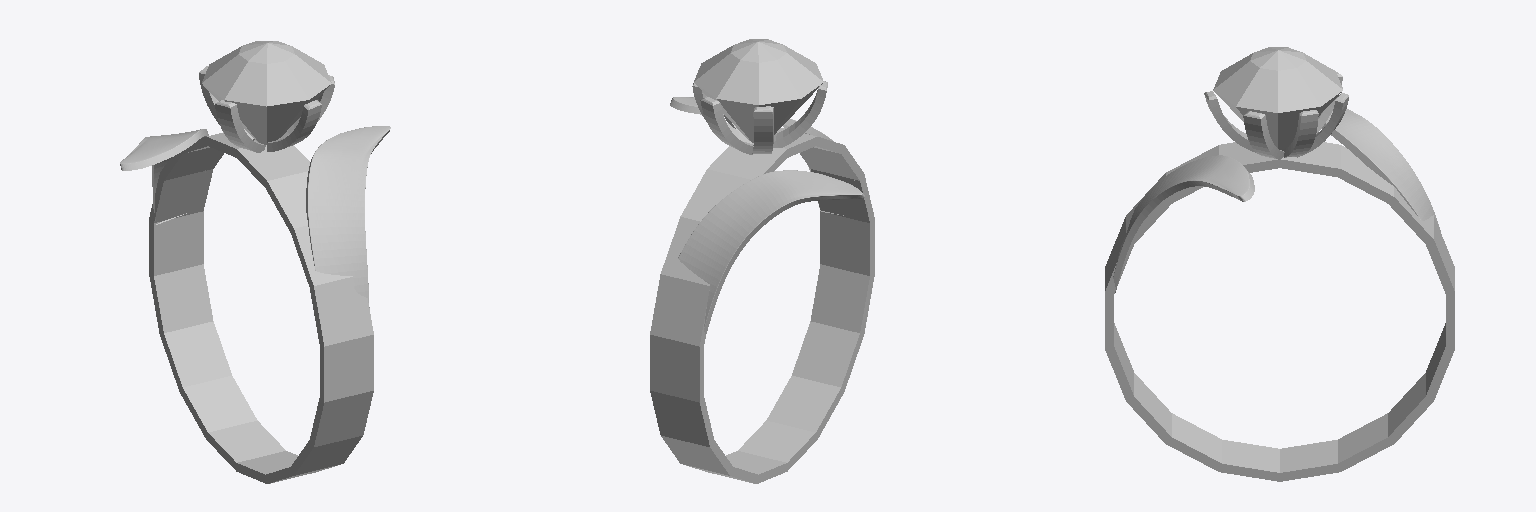
The model's file is ring3.obj.
3 views of the same model, side by side, from view 1: azimuth 30°, elevation 25°; view 2: azimuth 150°, elevation 25°; view 3: azimuth 270°, elevation 25° (orthographic).
Parts seen in each view (by area): view 1: Tube001, 002, Cone001, object 2, Box012, Box010; view 2: Tube001, object 2, Cone001, Box014, Box012, Box013, 002; view 3: Tube001, Cone001, 002, object 2, Box009, Box008, Box010, Box014.
Boxes of the visible parts, x1=… form: Tube001: x1=149, y1=132, x2=373, y2=483; 002: x1=306, y1=126, x2=390, y2=307; Cone001: x1=202, y1=41, x2=331, y2=144; object 2: x1=120, y1=129, x2=208, y2=224; Box012: x1=215, y1=100, x2=265, y2=152; Box010: x1=267, y1=100, x2=321, y2=151; Tube001: x1=650, y1=128, x2=874, y2=483; object 2: x1=678, y1=170, x2=864, y2=334; Cone001: x1=694, y1=39, x2=823, y2=142; Box014: x1=700, y1=97, x2=753, y2=154; Box012: x1=773, y1=81, x2=827, y2=147; Box013: x1=752, y1=106, x2=773, y2=153; 002: x1=670, y1=97, x2=854, y2=215; Tube001: x1=1105, y1=142, x2=1454, y2=481; Cone001: x1=1213, y1=47, x2=1342, y2=149; 002: x1=1113, y1=155, x2=1254, y2=292; object 2: x1=1322, y1=109, x2=1440, y2=231; Box009: x1=1243, y1=111, x2=1284, y2=159; Box008: x1=1282, y1=110, x2=1318, y2=157; Box010: x1=1204, y1=91, x2=1255, y2=152; Box014: x1=1295, y1=92, x2=1348, y2=157.
Bounding box in the file's own units: 284 × 495 × 372.